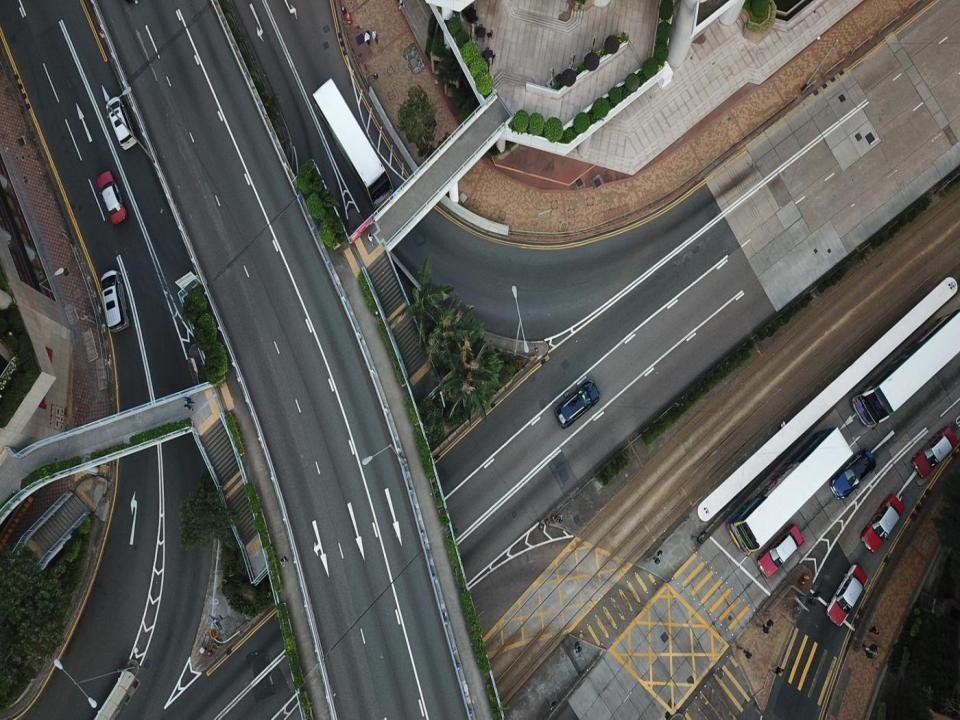bus: (724, 422, 854, 553), (849, 299, 959, 432), (313, 76, 394, 211)
car: (823, 560, 871, 626), (758, 524, 807, 576), (827, 450, 880, 498), (860, 495, 904, 552), (910, 424, 956, 477), (554, 380, 602, 429), (106, 92, 138, 149), (101, 270, 128, 331), (96, 169, 126, 223)
